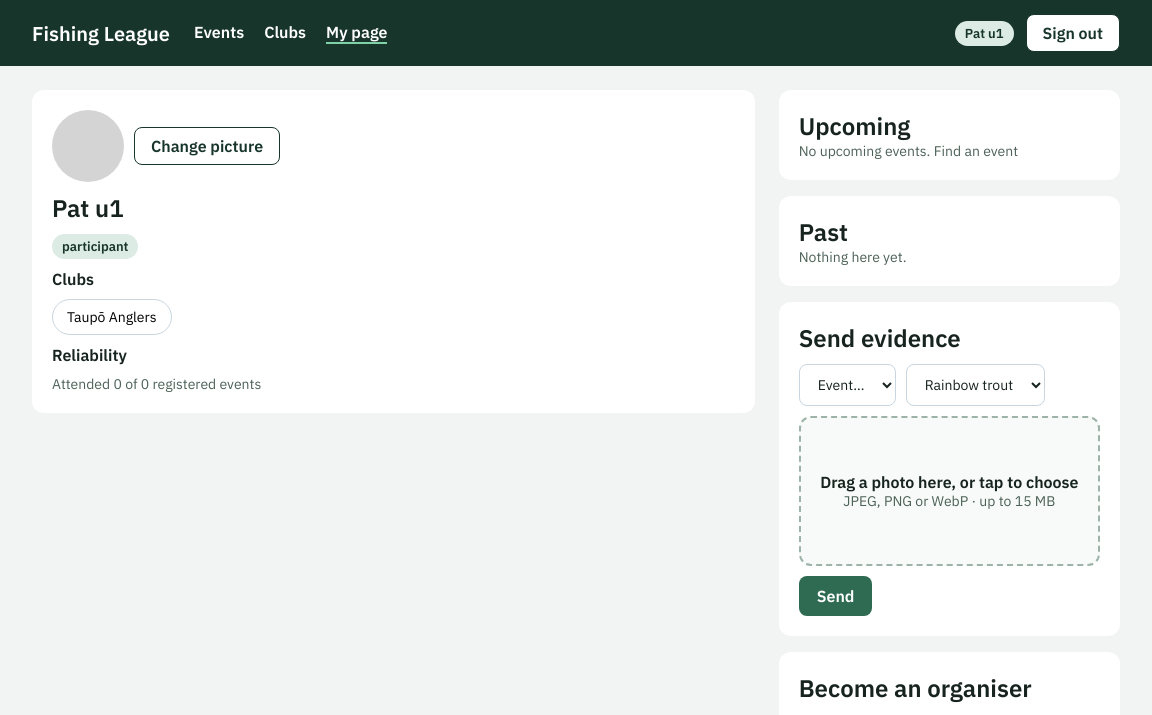
changing my own picture › removes the picture
Click the button "Change picture" at (207, 146), box [134, 127, 280, 165]
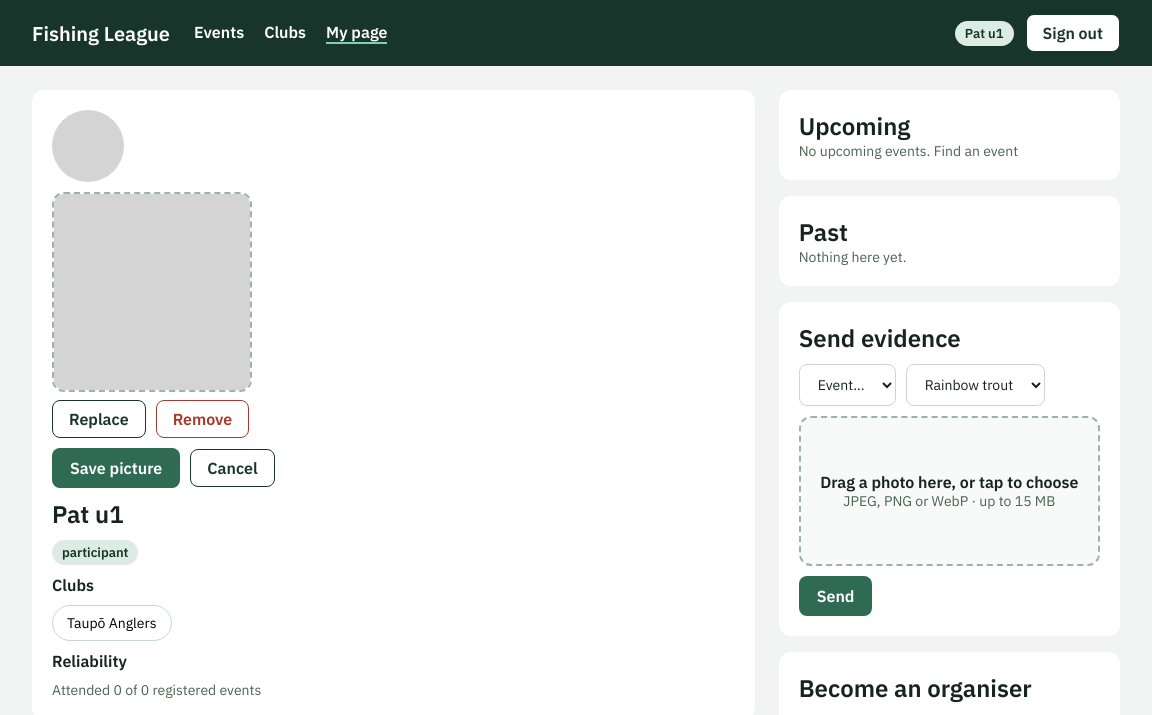
Click the button "Remove" at (202, 419), box [156, 400, 249, 438]
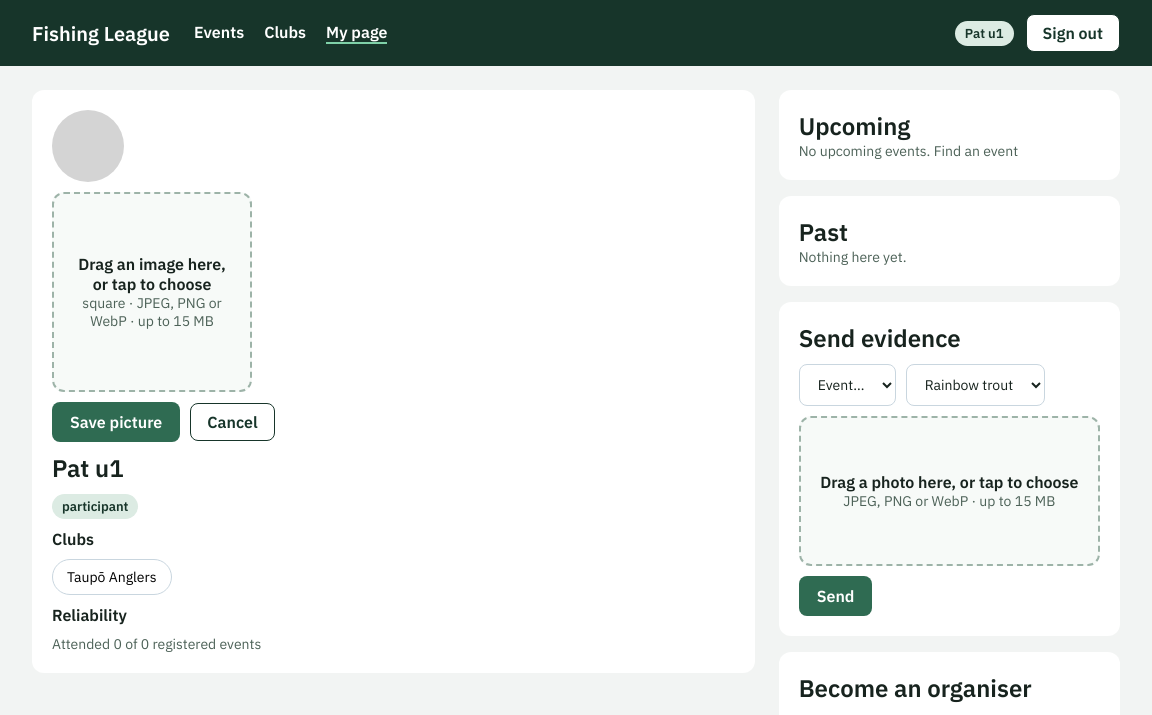
Click the button "Save picture" at (116, 422), box [52, 402, 180, 442]
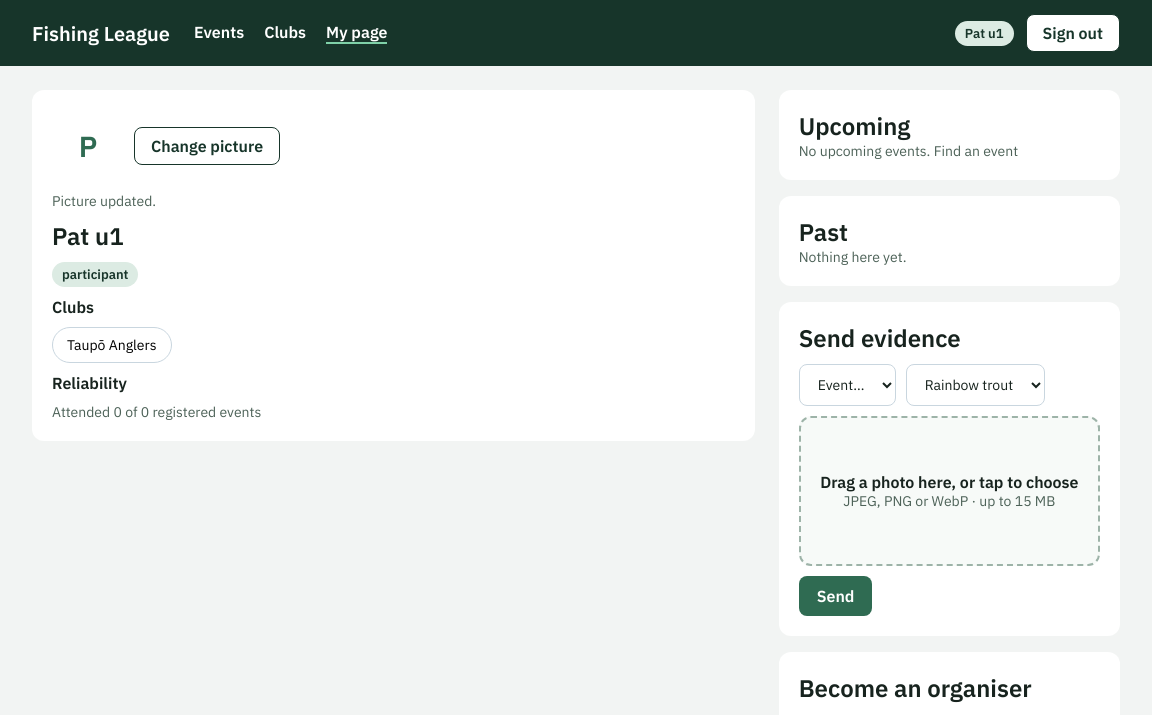
Expected: the text "Picture updated." is shown, [52, 192, 156, 210]
